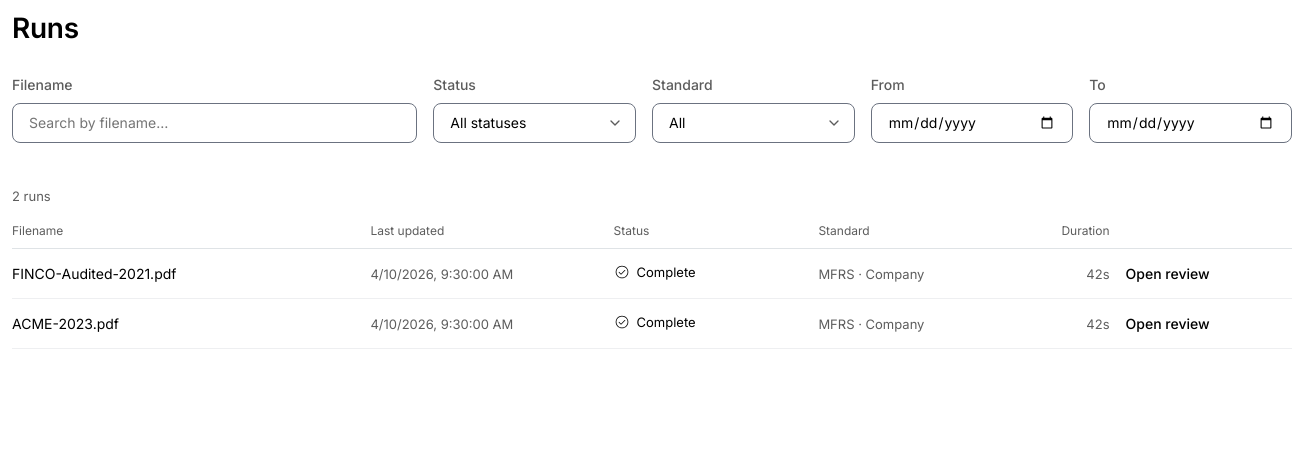
it: HistoryPage › selecting a row loads the detail view
Click the link "ACME-2023.pdf". click: click(66, 324)
box: [12, 313, 119, 334]
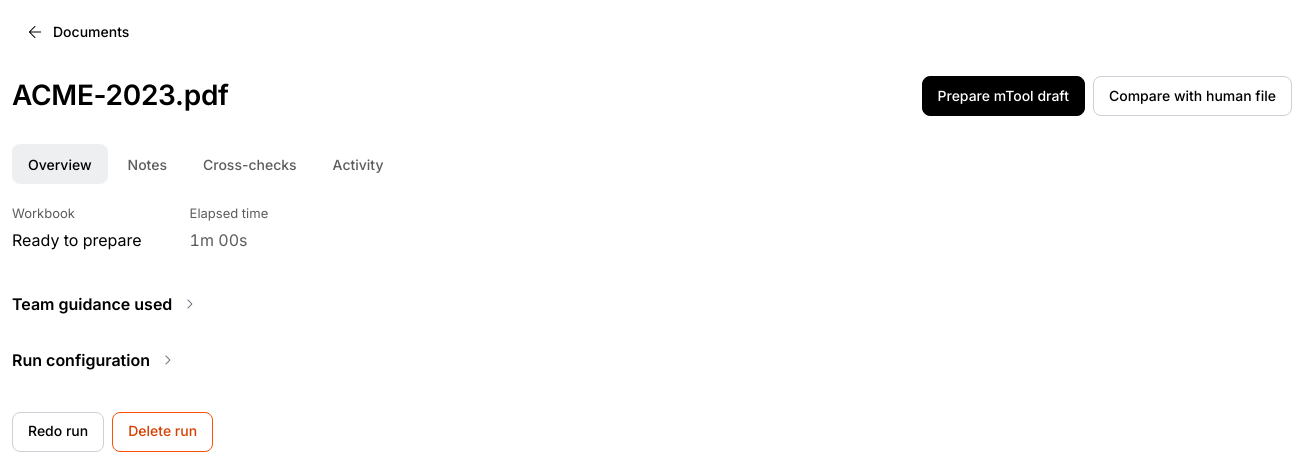
Check: the button "Prepare mTool draft" is shown, box [922, 76, 1085, 116]
